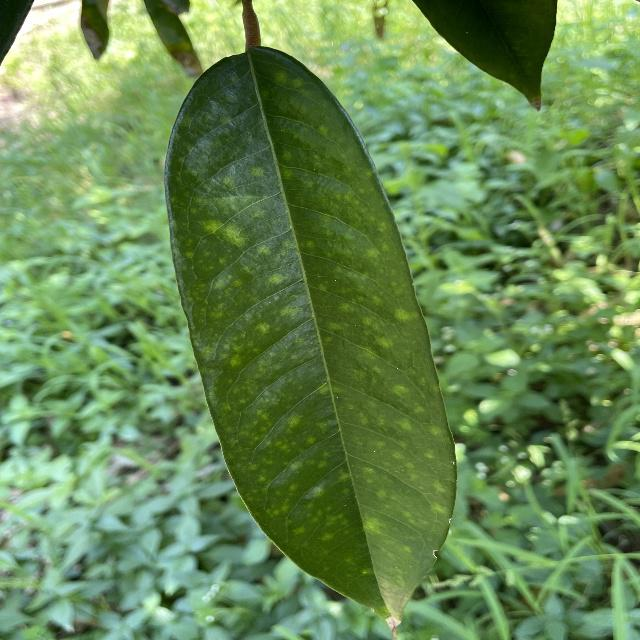Leaf Spot: (161, 41, 464, 639)
